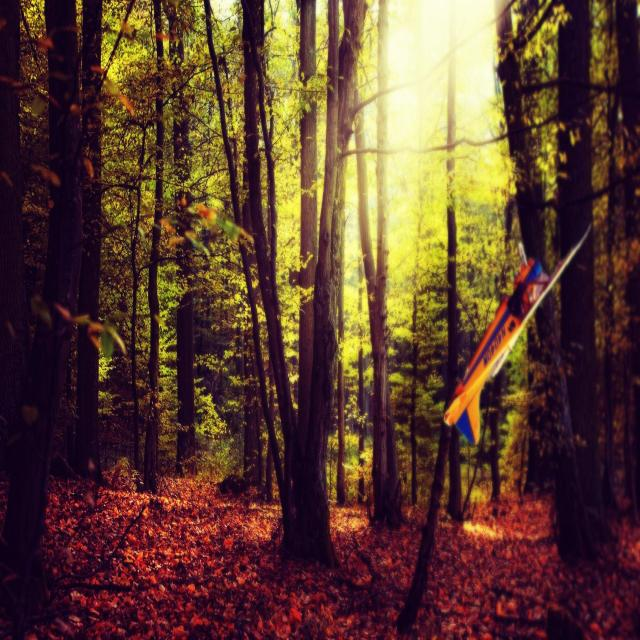airplane: (443, 221, 591, 445)
